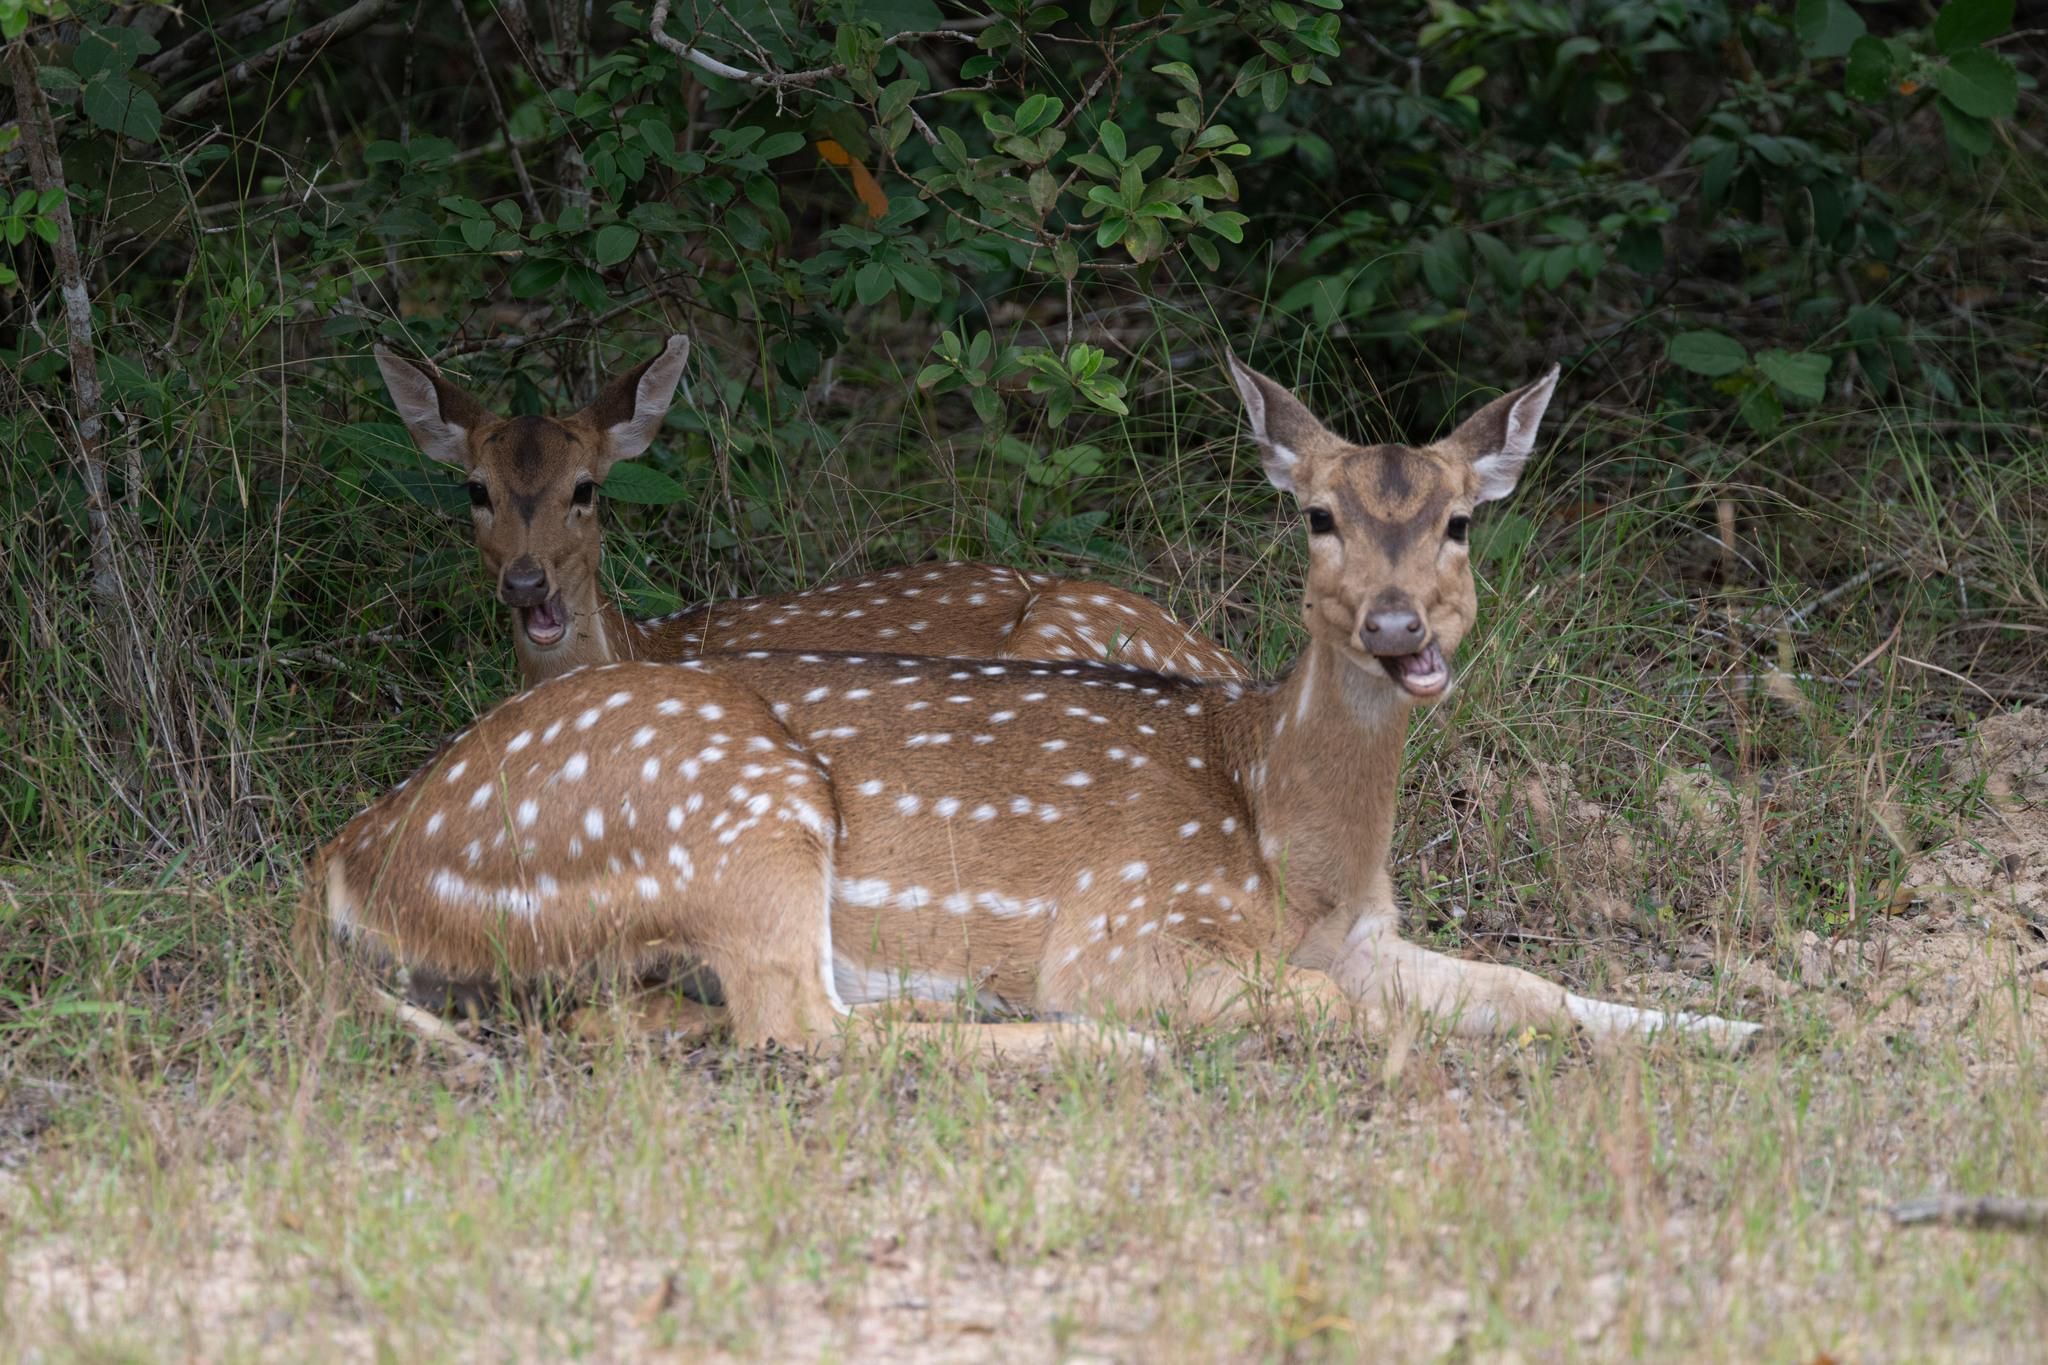Deer: (320, 363, 1759, 1047), (375, 337, 1249, 684)
